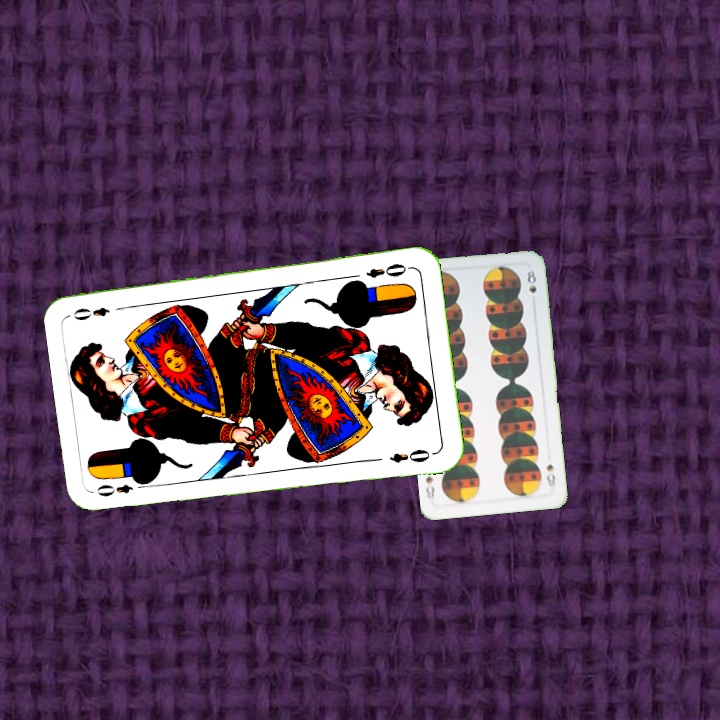EO: (362, 259, 414, 281), (92, 480, 135, 499)
S8: (542, 460, 558, 489)
